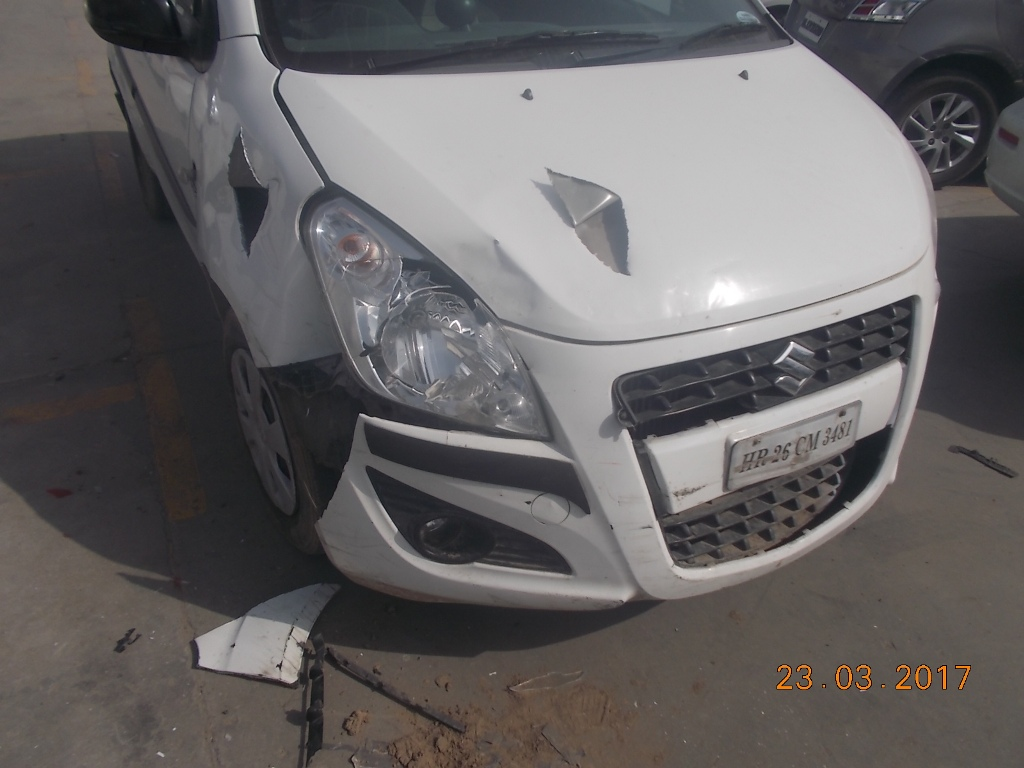Dent: (463, 230, 534, 297)
Tear: (547, 160, 645, 283), (219, 117, 278, 253), (315, 411, 372, 541)
